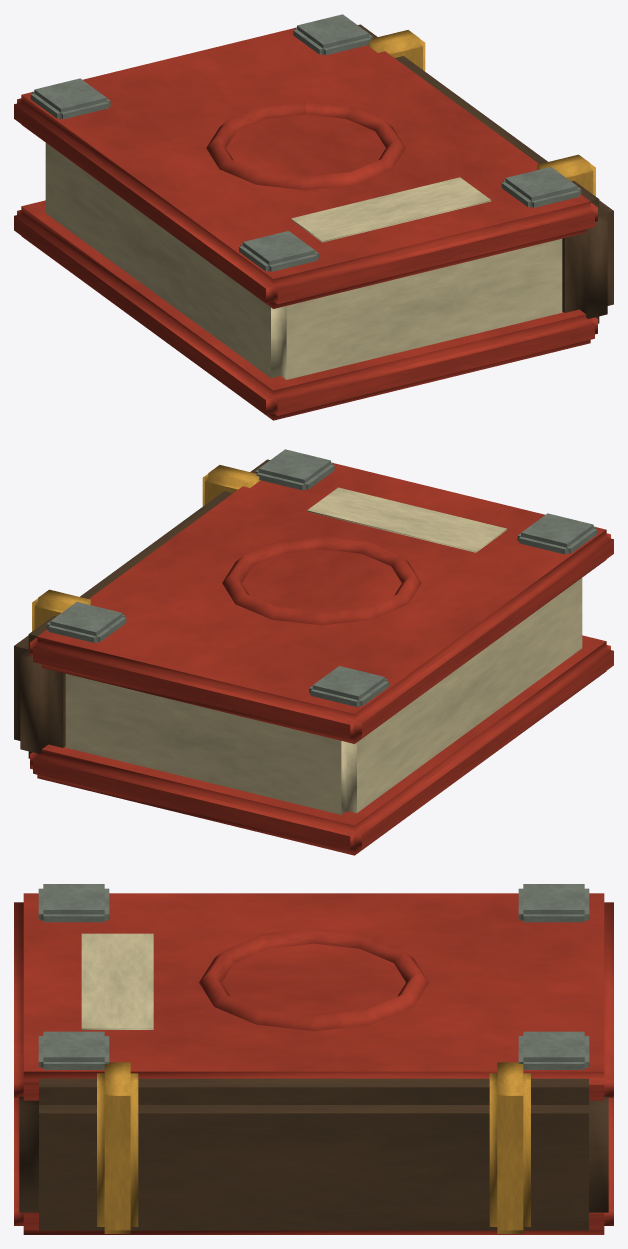
File: item-BloodletterLedgerGrimoire.fbx
The picture shows the model from 3 angles, top to bottom: view 1: azimuth 30°, elevation 25°; view 2: azimuth 150°, elevation 25°; view 3: azimuth 270°, elevation 25°; orthographic projection. The views are drawn at different scales.
Visible parts, largest first — view 1: item-BloodletterLedgerGrimoire__Geometry; view 2: item-BloodletterLedgerGrimoire__Geometry; view 3: item-BloodletterLedgerGrimoire__Geometry.
Part boxes in pixels (x1,y1,x2,y2): item-BloodletterLedgerGrimoire__Geometry: (14,14,613,420); item-BloodletterLedgerGrimoire__Geometry: (14,449,613,855); item-BloodletterLedgerGrimoire__Geometry: (14,884,613,1234).
Bounding box in the file's own units: 0.445 × 0.177 × 0.55.
1 material, 1 textured.
